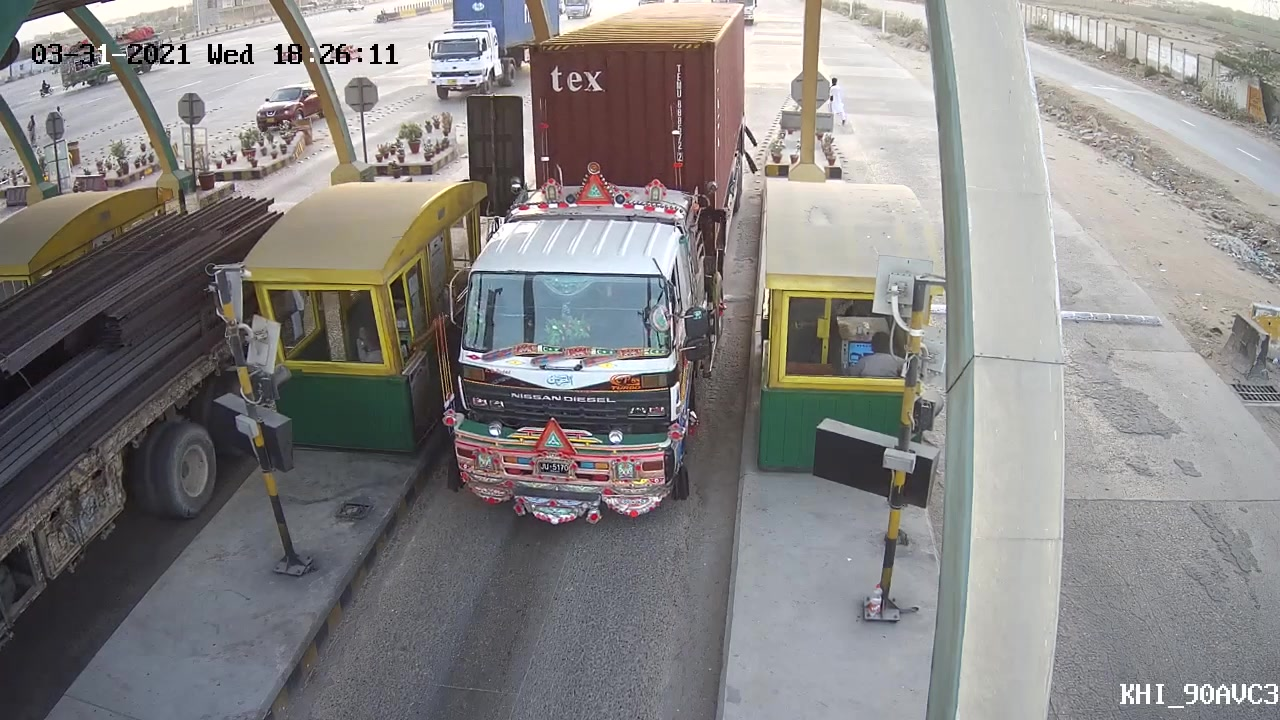F6: (429, 60, 761, 531)
